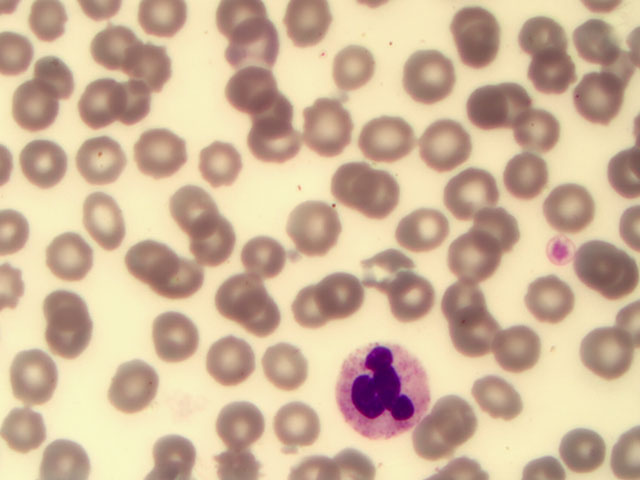Platelets: (549, 233, 573, 266)
RBC: (35, 48, 93, 99), (12, 76, 70, 127), (15, 139, 73, 190), (66, 134, 124, 185), (67, 82, 125, 133), (92, 79, 150, 130), (126, 41, 184, 92), (90, 23, 148, 74), (137, 1, 195, 52), (219, 18, 277, 69), (221, 62, 279, 113), (239, 84, 297, 135), (240, 114, 298, 165), (197, 139, 255, 190), (131, 128, 189, 179), (163, 181, 221, 232), (182, 209, 240, 260), (157, 248, 215, 299), (125, 237, 183, 288), (76, 191, 134, 242), (50, 227, 108, 278), (36, 276, 94, 327), (41, 314, 99, 365), (6, 348, 64, 399), (35, 429, 93, 480), (105, 361, 163, 412), (144, 311, 202, 362), (205, 335, 263, 386), (257, 339, 315, 390), (239, 293, 297, 344), (210, 265, 268, 316), (237, 230, 295, 281), (286, 201, 344, 252), (323, 155, 381, 206), (346, 172, 404, 223), (359, 113, 417, 164), (298, 101, 356, 152), (327, 41, 385, 92), (399, 47, 457, 98), (441, 8, 499, 59), (519, 4, 577, 55), (521, 42, 579, 93), (456, 82, 514, 133), (483, 75, 541, 126), (506, 103, 564, 154), (493, 150, 551, 201), (445, 164, 503, 215), (420, 122, 478, 173), (398, 203, 456, 254), (364, 240, 422, 291), (375, 271, 433, 322), (323, 268, 381, 319), (294, 282, 352, 333), (437, 272, 495, 323), (443, 245, 501, 296), (468, 206, 526, 257), (539, 176, 597, 227), (572, 237, 630, 288), (522, 273, 580, 324), (490, 321, 548, 372), (447, 310, 505, 361), (474, 375, 532, 426), (437, 394, 495, 445), (406, 414, 464, 465), (271, 403, 329, 454), (213, 398, 271, 449), (144, 429, 202, 480), (553, 422, 611, 473), (579, 328, 637, 379), (571, 72, 629, 123), (573, 15, 631, 66), (1, 390, 58, 441), (24, 1, 82, 51), (278, 1, 336, 51)
WBC: (336, 344, 432, 435)
